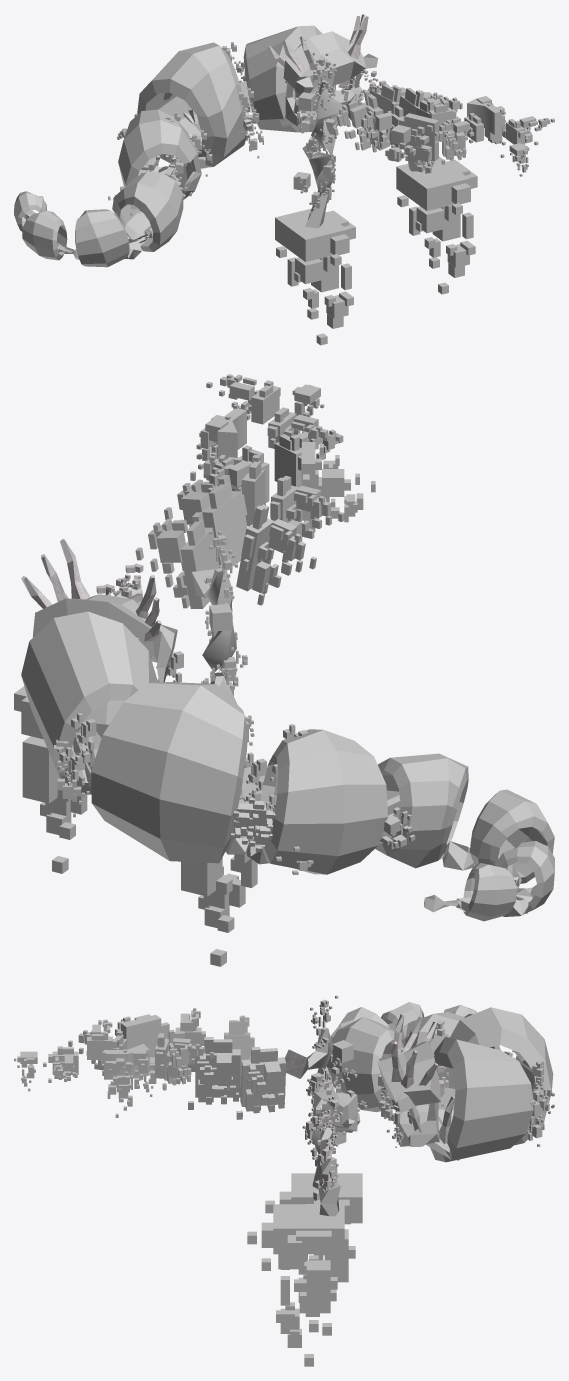
The model's file is ShortMap 1.fbx.
3 renders of one model, top to bottom at view 1: azimuth 30°, elevation 25°; view 2: azimuth 150°, elevation 25°; view 3: azimuth 270°, elevation 25°, orthographic. The views are drawn at different scales.
Parts seen in each view (by area): view 1: pPipe2, pCube612, pCube610, pPipe3, pPipe1, pPipe4, pCube334, pPipe5, pCube609, pCube688, pPipe6, pCube607 (+14 smaller); view 2: pPipe2, pPipe3, pPipe1, pPipe4, pCube612, pPipe5, pCube610, pCube608, pCube607, pCube606, pCube334, pCube688 (+19 smaller); view 3: pPipe1, pCube612, pPipe2, pPipe4, pCube610, pCube606, pCube608, pCube334, TreeCubes1, pCube600, pCube609, pCube333 (+16 smaller).
Part boxes in pixels (bbox=[...]): pPipe2: bbox=[137, 42, 246, 167]; pCube612: bbox=[396, 156, 477, 294]; pCube610: bbox=[275, 208, 355, 345]; pPipe3: bbox=[118, 109, 201, 212]; pPipe1: bbox=[243, 25, 322, 132]; pPipe4: bbox=[112, 171, 183, 251]; pCube334: bbox=[283, 31, 377, 113]; pPipe5: bbox=[75, 209, 129, 267]; pCube609: bbox=[302, 80, 358, 228]; pCube688: bbox=[385, 113, 438, 173]; pPipe6: bbox=[22, 211, 67, 260]; pCube607: bbox=[333, 90, 387, 152]; pPipe2: bbox=[91, 682, 248, 863]; pPipe3: bbox=[260, 729, 387, 874]; pPipe1: bbox=[21, 611, 157, 794]; pPipe4: bbox=[375, 753, 468, 868]; pCube612: bbox=[14, 686, 91, 873]; pPipe5: bbox=[469, 789, 554, 883]; pCube610: bbox=[181, 767, 265, 966]; pCube608: bbox=[135, 512, 219, 608]; pCube607: bbox=[236, 504, 316, 605]; pCube606: bbox=[164, 475, 247, 570]; pCube334: bbox=[32, 594, 177, 682]; pCube688: bbox=[301, 442, 375, 532]; pPipe1: bbox=[426, 1036, 533, 1162]; pCube612: bbox=[247, 1204, 344, 1366]; pPipe2: bbox=[450, 1007, 553, 1145]; pPipe4: bbox=[327, 1017, 403, 1112]; pCube610: bbox=[265, 1173, 362, 1335]; pCube606: bbox=[178, 1037, 240, 1109]; pCube608: bbox=[226, 1046, 286, 1119]; pCube334: bbox=[377, 1041, 441, 1133]; TreeCubes1: bbox=[313, 1091, 357, 1216]; pCube600: bbox=[102, 1044, 149, 1117]; pCube609: bbox=[285, 1027, 360, 1188]; pCube333: bbox=[395, 1102, 451, 1159].
Bounding box in the file's own units: 461 × 319 × 467.
